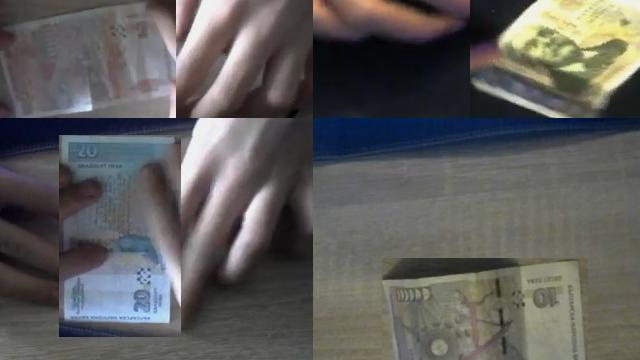10leva: (382, 258, 587, 360)
20leva: (59, 135, 181, 337)
5leva: (0, 0, 176, 118)
